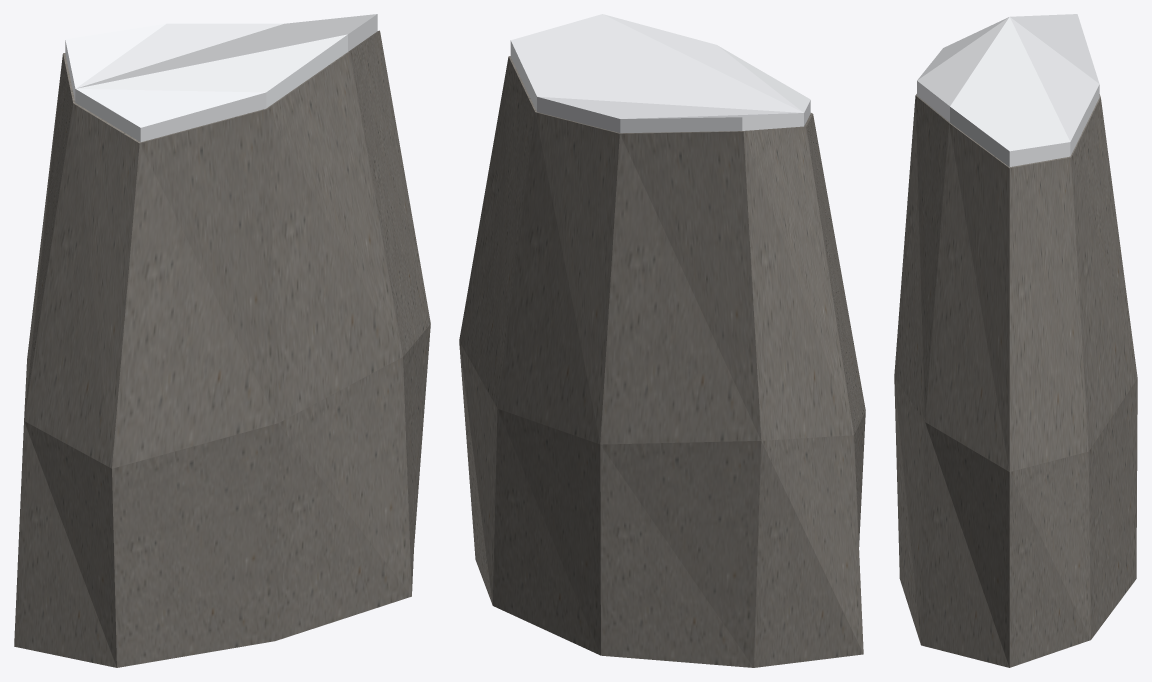
File: rock_face_snow.glb
3 renders of one model, left to right at view 1: azimuth 30°, elevation 25°; view 2: azimuth 150°, elevation 25°; view 3: azimuth 270°, elevation 25°, orthographic. The views are drawn at different scales.
Parts seen in each view (by area): view 1: canonical_base, snow_accumulation; view 2: canonical_base, snow_accumulation; view 3: canonical_base, snow_accumulation.
Boxes of the visible parts, x1=… form: canonical_base: x1=14, y1=30, x2=430, y2=667; snow_accumulation: x1=65, y1=14, x2=377, y2=142; canonical_base: x1=459, y1=56, x2=865, y2=667; snow_accumulation: x1=510, y1=14, x2=810, y2=133; canonical_base: x1=894, y1=94, x2=1137, y2=667; snow_accumulation: x1=917, y1=14, x2=1099, y2=166.
Bounding box in the file's own units: 4 × 5.16 × 2.2.
Materials: 2 (1 with a texture image).
